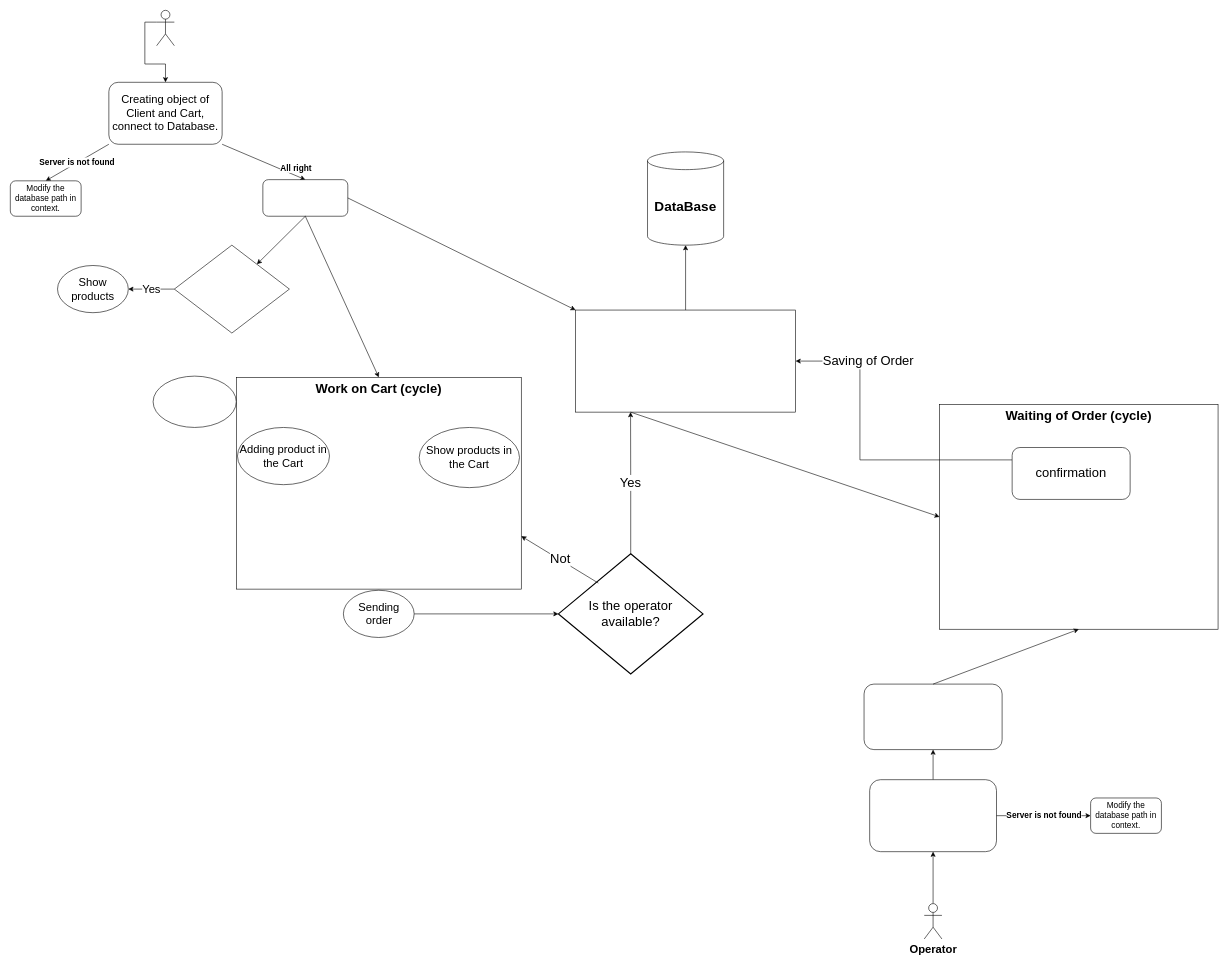
The diagram is 1228 pixels wide and 967 high, and some of its shapes have lost their labels. The centre of each missing label's shape, as x and y in pixels:
Authorization/ Registration: (305,197)
Connecting to DB, creating object of Terminal: (933,815)
Controller: (685,360)
Creating of socket: (932,717)
Have database products?: (231,289)
Upping of the balance: (194,401)
User: (165,28)
